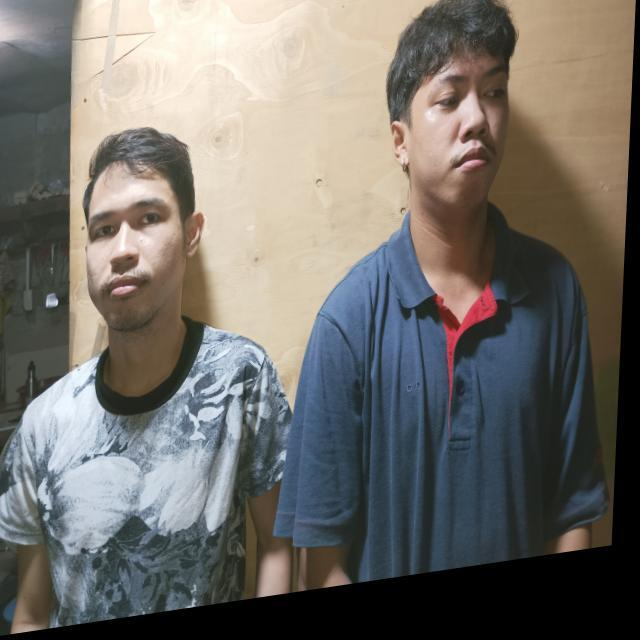Nonhelmet: (374, 0, 520, 224), (77, 124, 206, 334)
